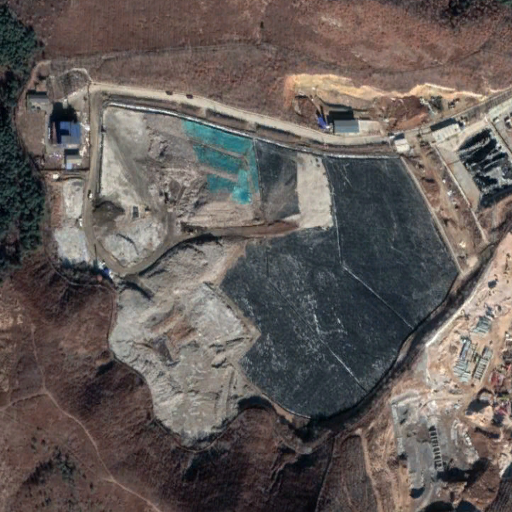lf: (86, 83, 458, 445)
